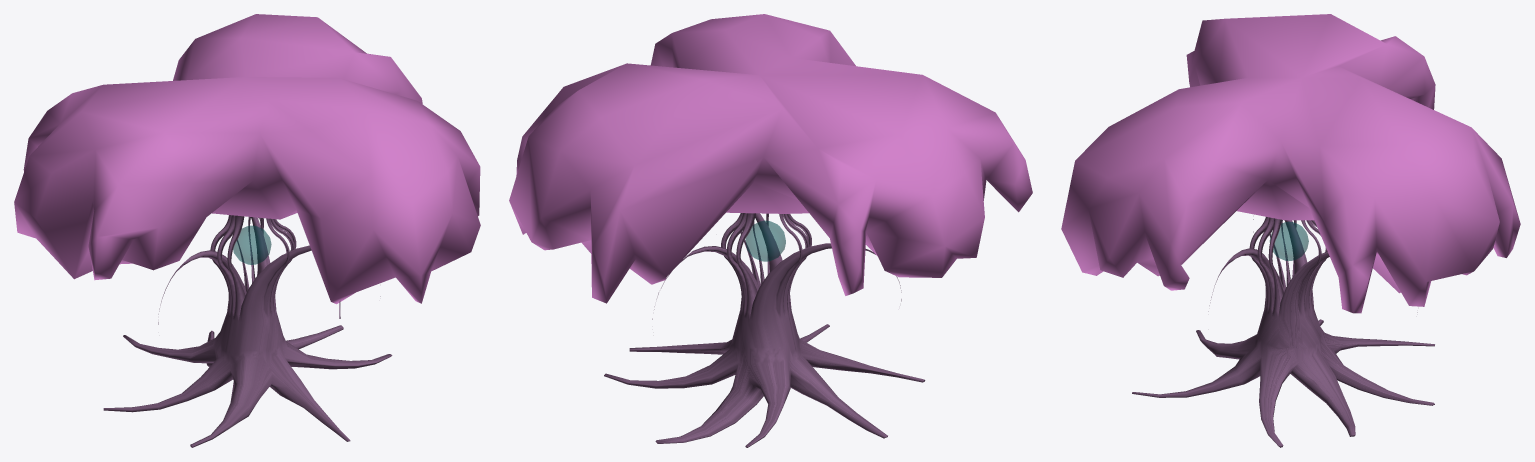
File: MagicalTreeLowPoly.fbx
3 views of the same model, side by side, from view 1: azimuth 30°, elevation 25°; view 2: azimuth 150°, elevation 25°; view 3: azimuth 270°, elevation 25° (orthographic). The views are drawn at different scales.
Parts seen in each view (by area): view 1: LowPoly_Leaf_M, Tree, Magical_Sphere; view 2: LowPoly_Leaf_M, Tree, Magical_Sphere; view 3: LowPoly_Leaf_M, Tree, Magical_Sphere.
Part boxes in pixels (x1,y1,x2,y2): LowPoly_Leaf_M: (14,14,480,304); Tree: (103,215,392,447); Magical_Sphere: (233,225,271,264); LowPoly_Leaf_M: (509,14,1032,303); Tree: (604,213,925,447); Magical_Sphere: (745,220,785,261); LowPoly_Leaf_M: (1061,14,1520,313); Tree: (1132,217,1434,447); Magical_Sphere: (1269,221,1308,260).
Size of the model in its own units: 1512 by 1124 by 1432.
3 materials, 1 textured.
